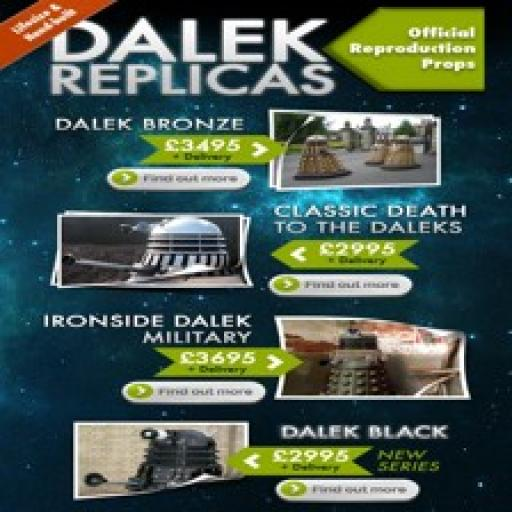dalek: (61, 217, 231, 285), (81, 426, 220, 489), (316, 322, 391, 396), (295, 134, 351, 178), (382, 132, 424, 174), (363, 133, 391, 169)
